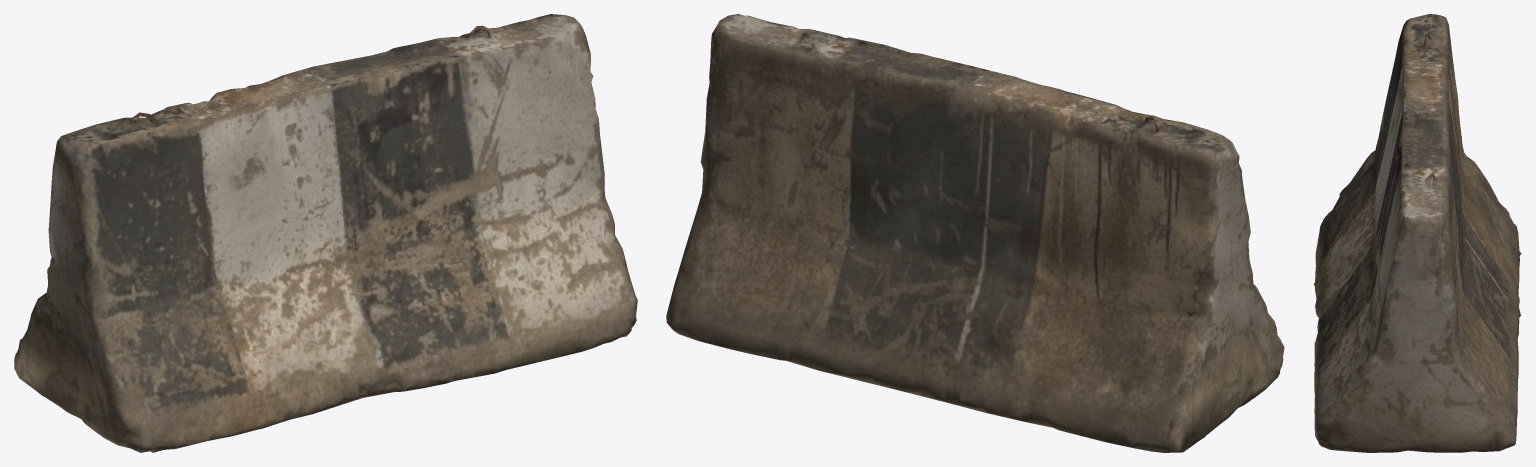
Rendered from barrier.glb.
3 renders of one model, left to right at view 1: azimuth 30°, elevation 25°; view 2: azimuth 150°, elevation 25°; view 3: azimuth 270°, elevation 25°, orthographic. The views are drawn at different scales.
Parts seen in each view (by area): view 1: concrete_road_barrier; view 2: concrete_road_barrier; view 3: concrete_road_barrier.
Boxes of the visible parts, x1=… form: concrete_road_barrier: x1=14, y1=14, x2=637, y2=452; concrete_road_barrier: x1=666, y1=14, x2=1284, y2=452; concrete_road_barrier: x1=1313, y1=14, x2=1521, y2=452.
Size of the model in its own units: 1.54 by 0.8304 by 0.6387.
Materials: 1 (1 with a texture image).
